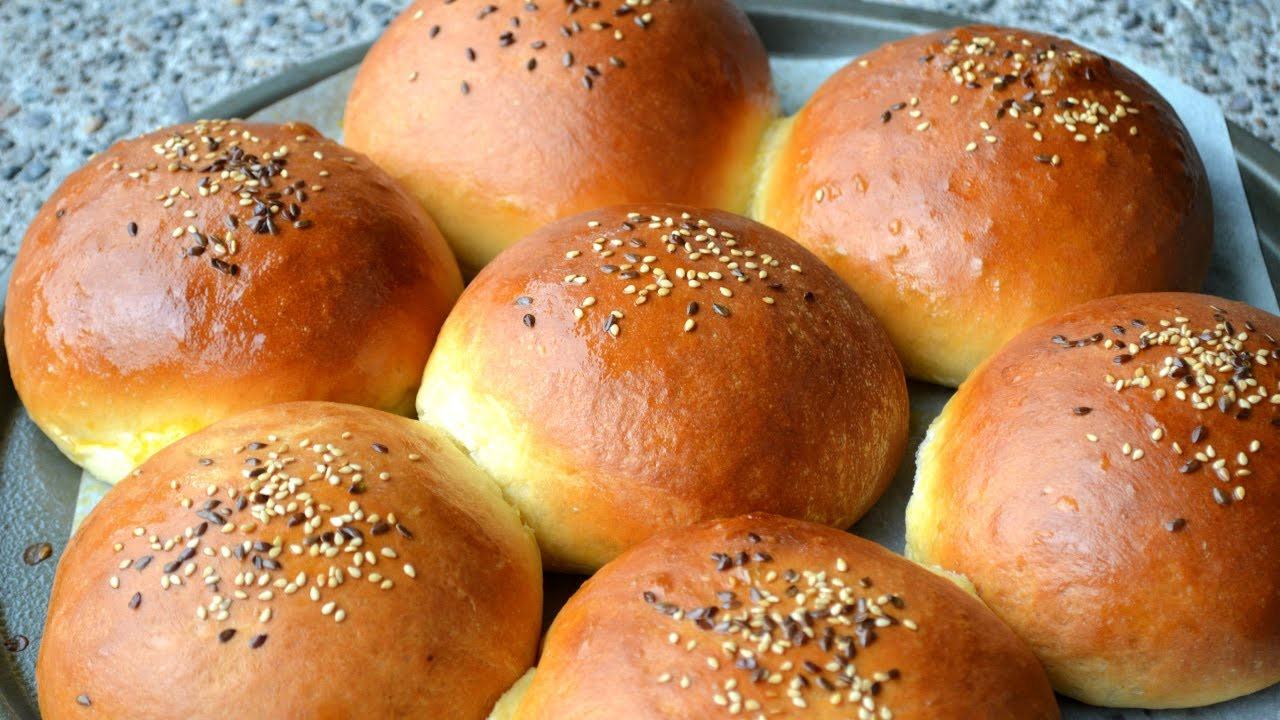hamburger_buns: (26, 391, 585, 716), (414, 173, 854, 575), (1, 111, 484, 440), (771, 67, 1211, 366)
